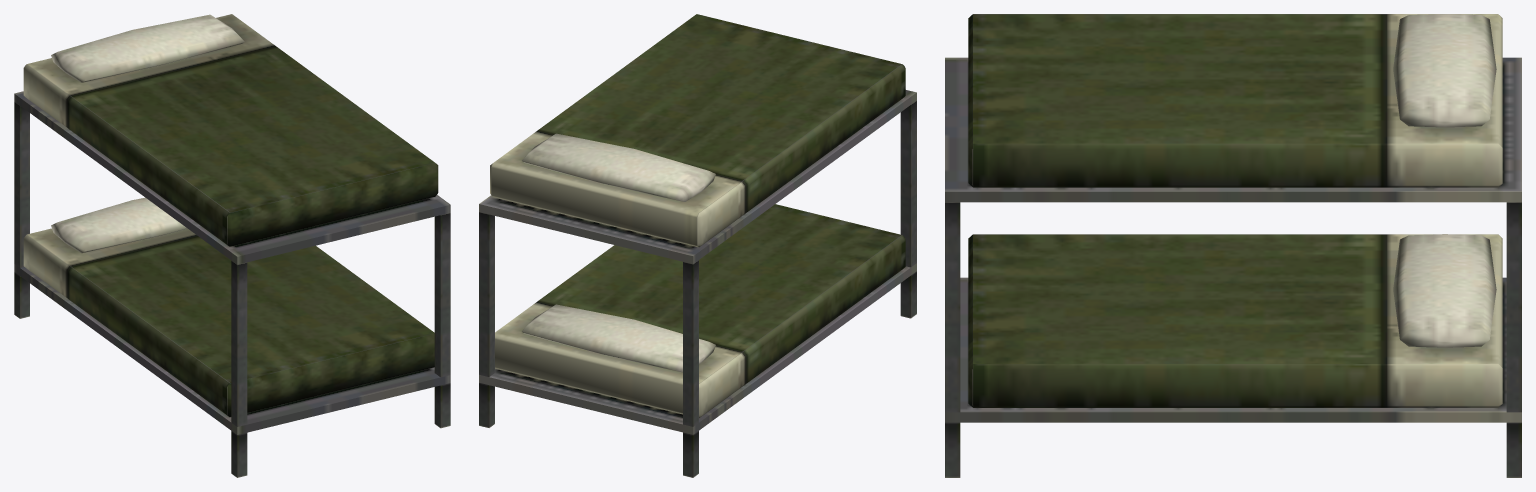
File: BunkBeds.glb
3 renders of one model, left to right at view 1: azimuth 30°, elevation 25°; view 2: azimuth 150°, elevation 25°; view 3: azimuth 270°, elevation 25°, orthographic. The views are drawn at different scales.
Parts seen in each view (by area): view 1: BUNKBEDS; view 2: BUNKBEDS; view 3: BUNKBEDS.
Part boxes in pixels (x1,y1,x2,y2): BUNKBEDS: (14,14,450,477); BUNKBEDS: (479,14,916,477); BUNKBEDS: (945,14,1521,477).
Size of the model in its own units: 1.31 by 1.6 by 2.38.
1 material, 1 textured.
